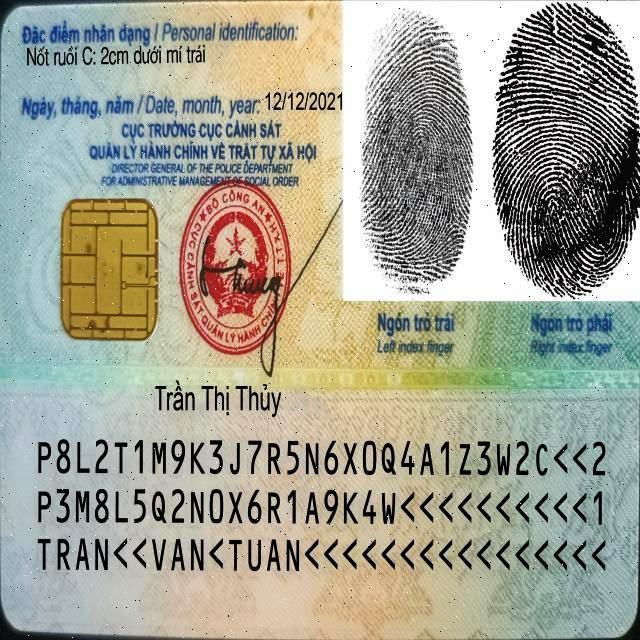features: (23, 42, 217, 70)
finger_print: (490, 0, 640, 367), (343, 0, 486, 365)
issue_date: (263, 88, 345, 114)
